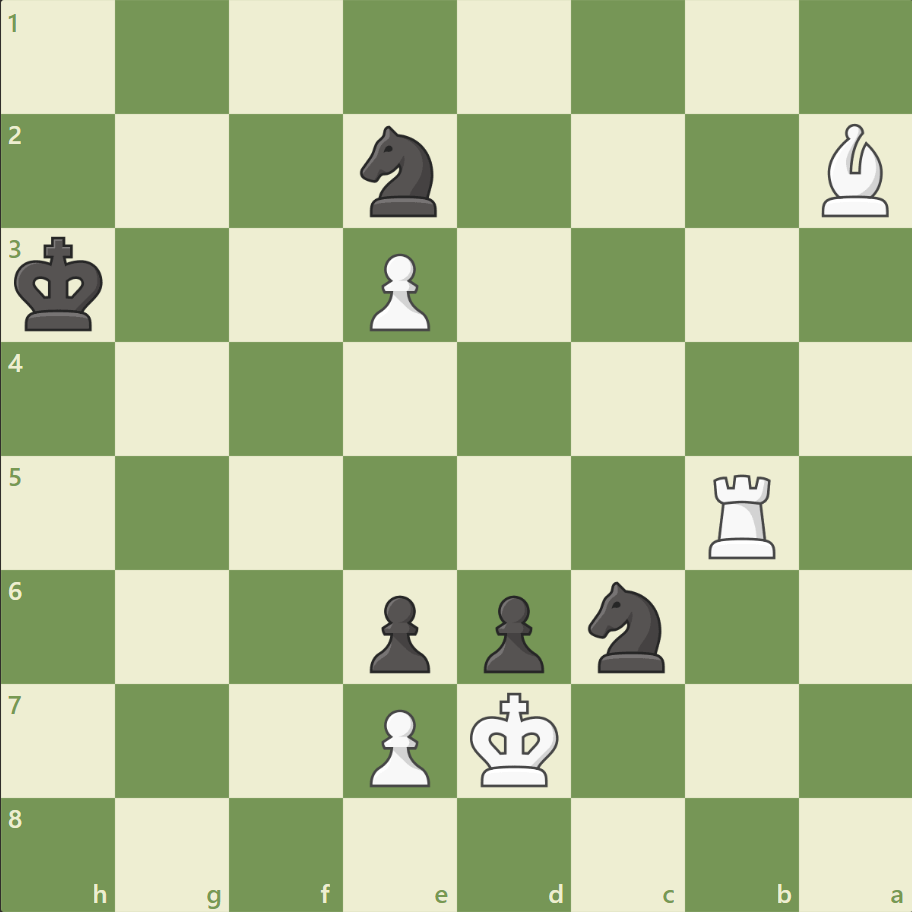B: (812, 120, 896, 222)
K: (465, 685, 565, 793)
P: (361, 700, 435, 791), (361, 246, 435, 337)
R: (700, 466, 783, 563)
k: (11, 231, 111, 339)
n: (351, 121, 449, 223), (579, 575, 676, 677)
p: (474, 586, 549, 677), (361, 586, 435, 677)
